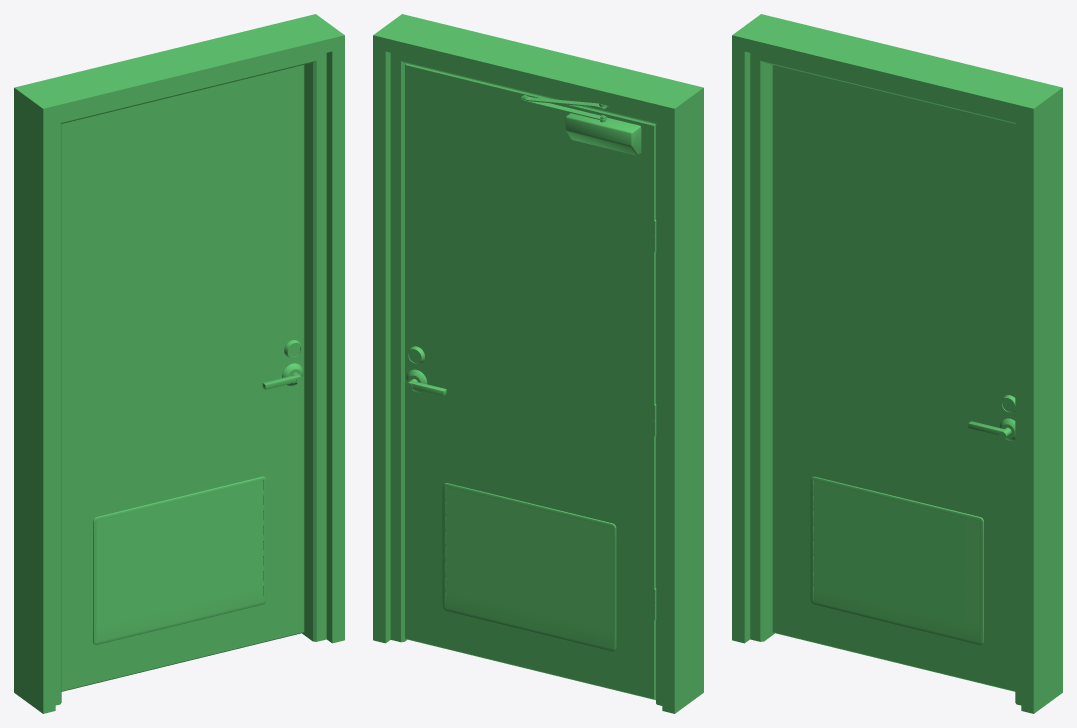
Rendered from service_door_2.fbx.
The picture shows the model from 3 angles, left to right: view 1: azimuth 30°, elevation 25°; view 2: azimuth 150°, elevation 25°; view 3: azimuth 330°, elevation 25°; orthographic projection.
Visible parts, largest first — view 1: service_door_2, service_door_2_Frame; view 2: service_door_2, service_door_2_Frame; view 3: service_door_2, service_door_2_Frame.
Part boxes in pixels (x1,y1,x2,y2): service_door_2: (61,65,304,691); service_door_2_Frame: (14,14,344,713); service_door_2: (405,63,656,699); service_door_2_Frame: (373,14,703,713); service_door_2: (772,65,1015,691); service_door_2_Frame: (732,14,1062,713).
Bounding box in the file's own units: 120 × 230 × 22.44.
